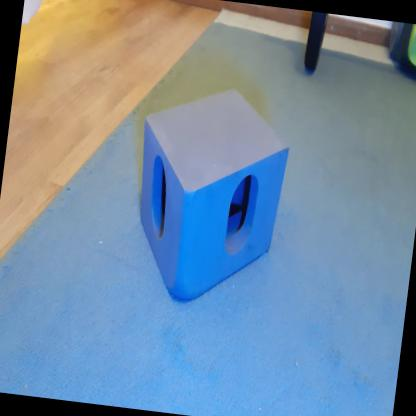CornerCasting: (122, 75, 296, 314)
